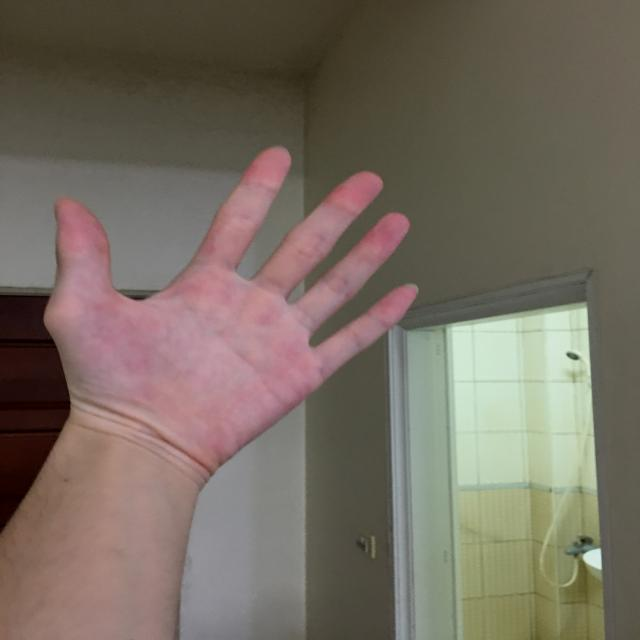no_glove: (25, 124, 436, 491)
